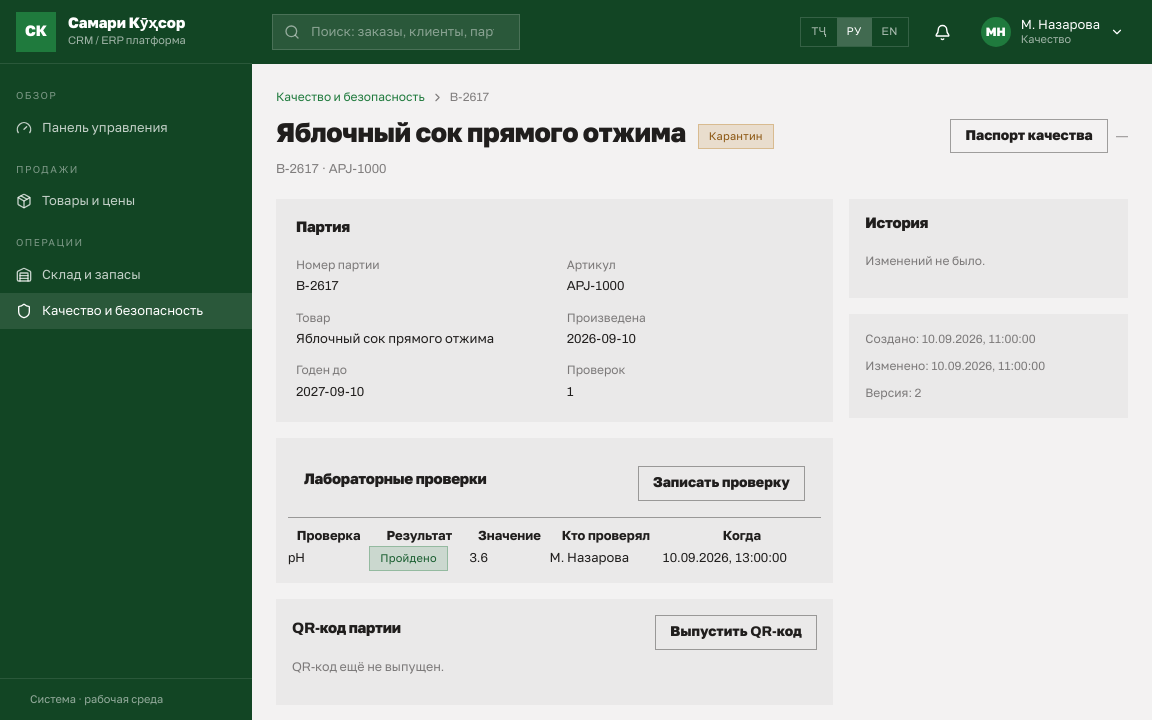
Test: Качество — recording a test › surfaces a validation failure against the form
The image size is (1152, 720).
Click the button with test id "toggle-test-form": (721, 484) left=638, top=466, right=805, bottom=501
(page scrolled)
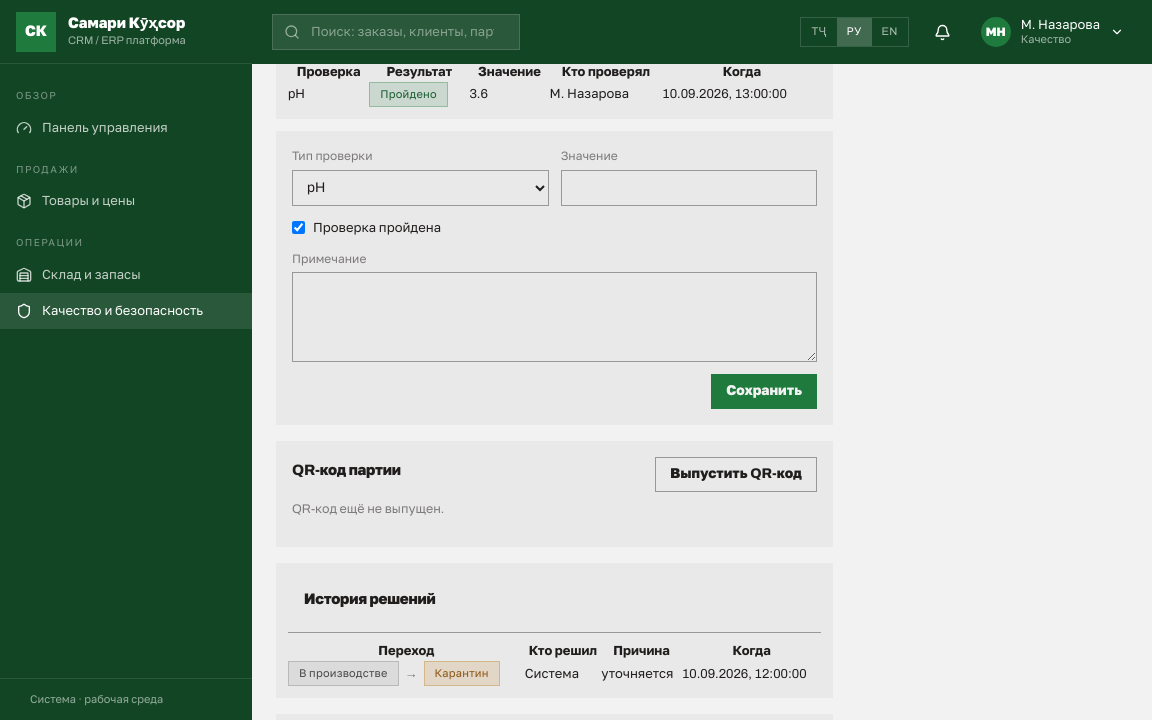
Click the button with test id "save-test": (764, 392) left=711, top=374, right=817, bottom=409
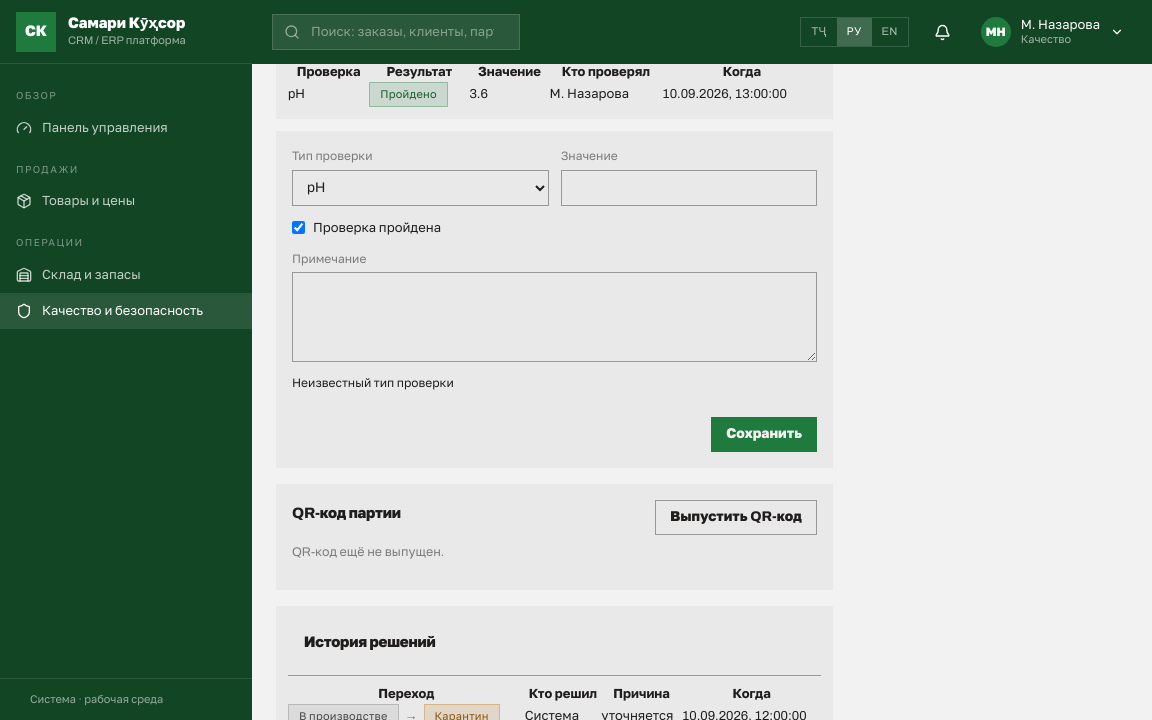
Check: the message with test id "test-error" reads "Неизвестный тип проверки", box left=292, top=376, right=454, bottom=390
